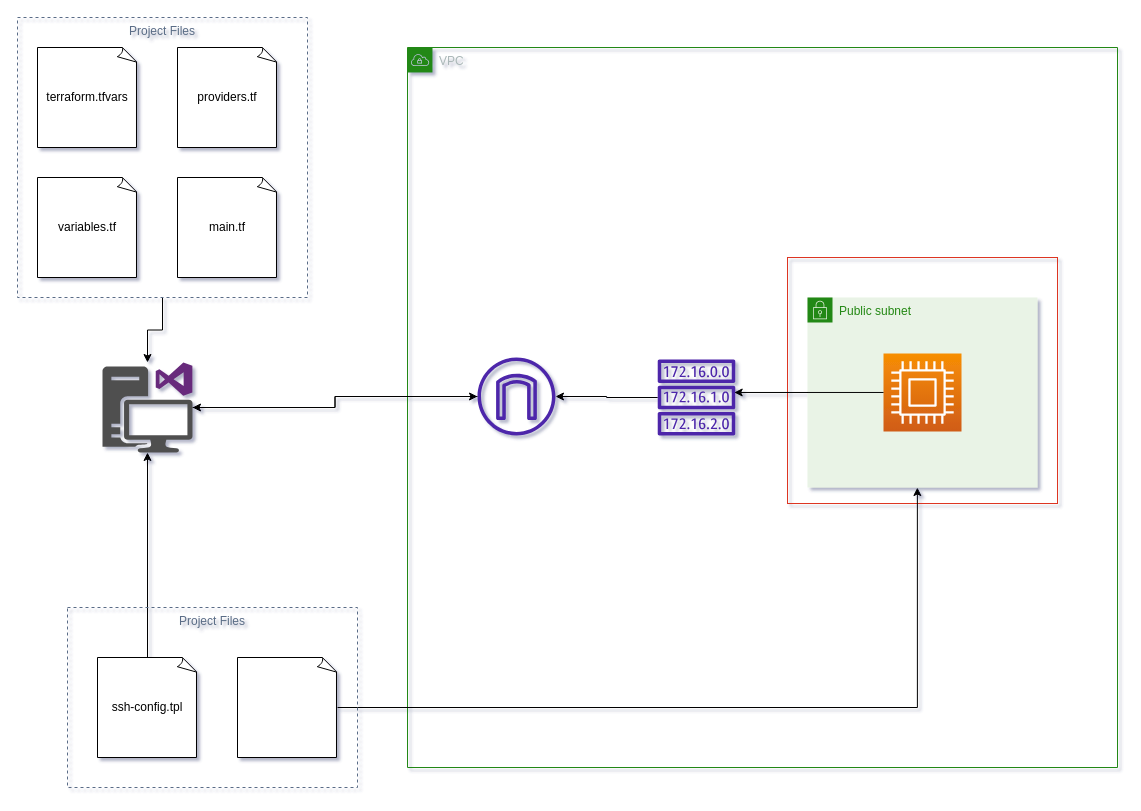
Image size: 1141x811. Some labels were removed from this diagram. The box of each missing label's shape, as (x1, y1, x2, y2) in pixels:
DEV Node: (882, 352, 962, 432)
Inertent Gateway: (477, 357, 555, 435)
Public Route Table: (657, 359, 735, 435)
Public Security group: (786, 256, 1058, 504)
userdata.tpl: (236, 656, 338, 758)
